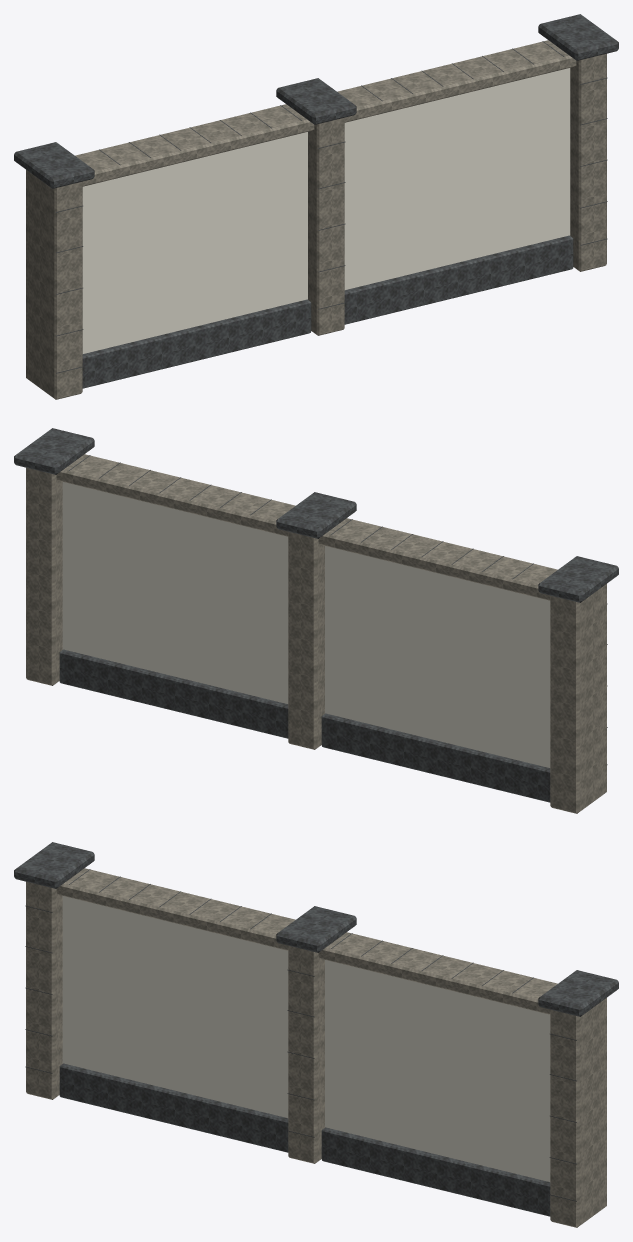
File: wall.glb
3 renders of one model, top to bottom at view 1: azimuth 30°, elevation 25°; view 2: azimuth 150°, elevation 25°; view 3: azimuth 330°, elevation 25°, orthographic.
Visible parts, largest first — view 1: wall; view 2: wall; view 3: wall.
Boxes of the visible parts, box(x1,y1,x2,y2) form: wall: box(14, 14, 618, 399); wall: box(14, 428, 618, 813); wall: box(14, 842, 618, 1227).
Size of the model in its own units: 5.68 by 2.16 by 0.6788.
3 materials, 2 textured.
